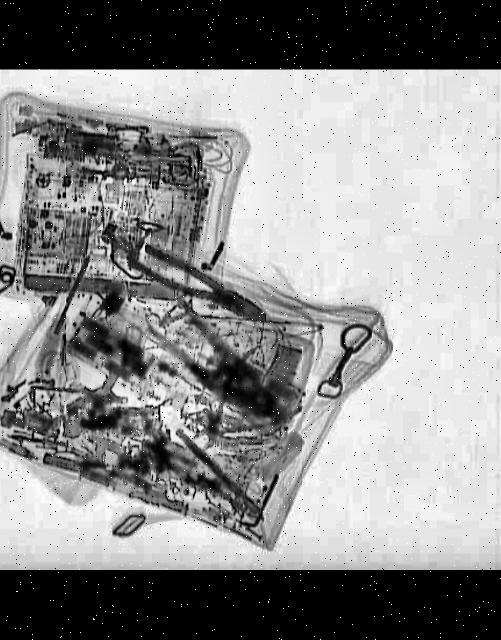Pliers: (147, 303, 298, 437), (126, 240, 275, 334)
